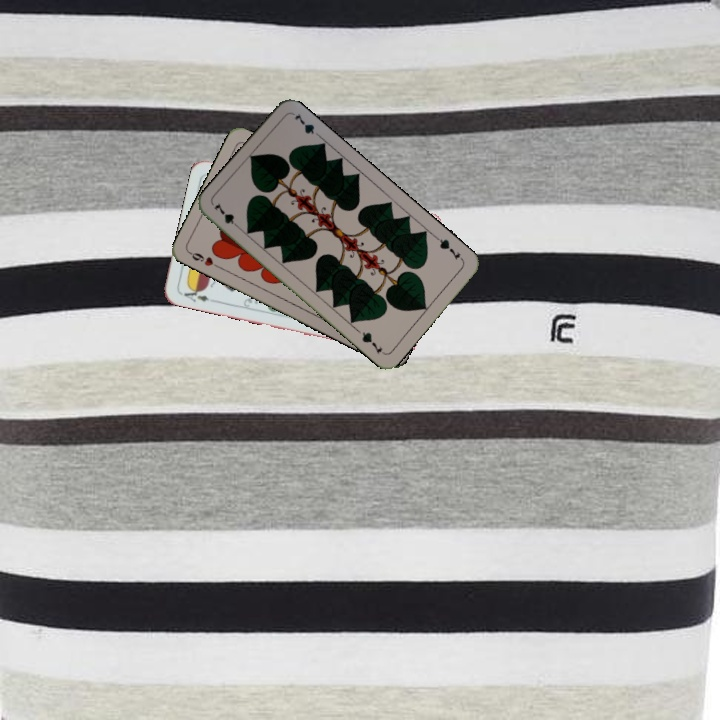EA: (177, 283, 212, 305)
G7: (210, 198, 244, 232), (432, 233, 466, 264)
H9: (185, 248, 224, 271)
